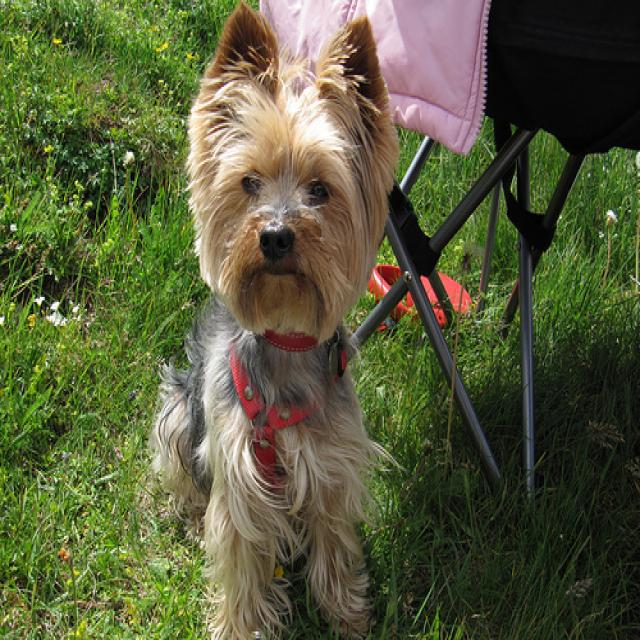dog-yorkshire_terrier: (141, 2, 413, 637)
